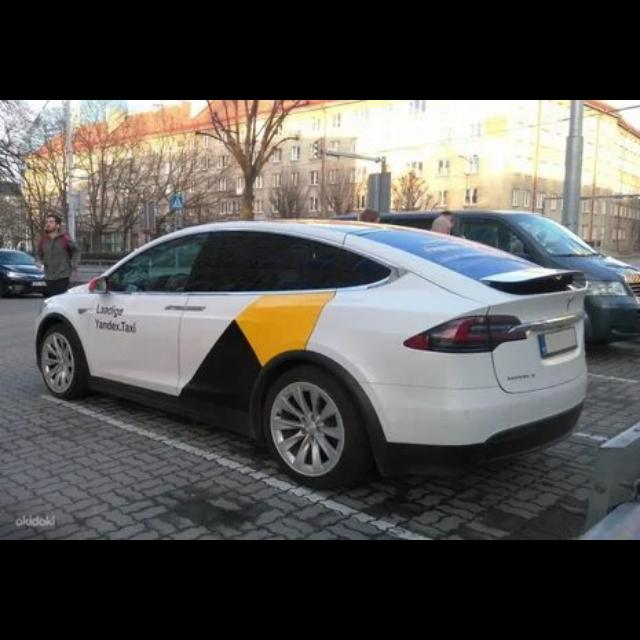taxi: (34, 218, 590, 490)
